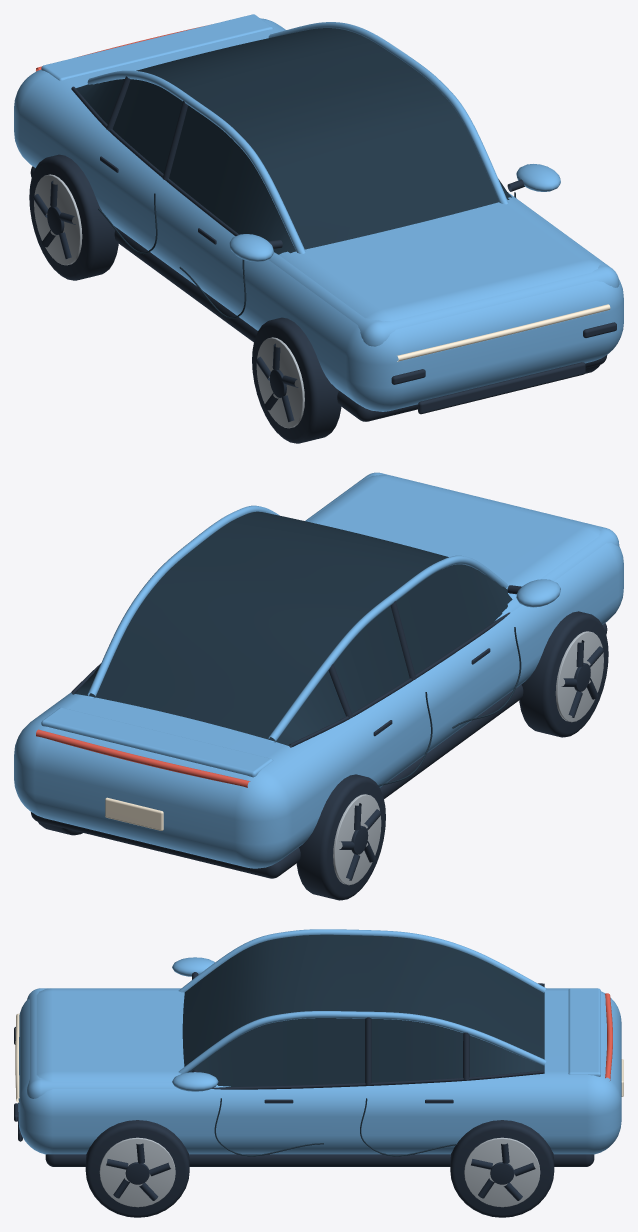
Rendered from tesla-model-y.glb.
3 renders of one model, top to bottom at view 1: azimuth 30°, elevation 25°; view 2: azimuth 150°, elevation 25°; view 3: azimuth 270°, elevation 25°, orthographic. The views are drawn at different scales.
Parts seen in each view (by area): view 1: Pearl paint, Midnight glass, Ink, Satin alloy, Porcelain; view 2: Pearl paint, Midnight glass, Ink, Satin alloy, Coral, Porcelain; view 3: Pearl paint, Midnight glass, Ink, Satin alloy, Coral, Porcelain.
Part boxes in pixels (x1,y1,x2,y2): Pearl paint: [14, 14, 623, 411]; Midnight glass: [76, 28, 515, 318]; Ink: [29, 76, 616, 443]; Satin alloy: [34, 174, 304, 428]; Porcelain: [397, 304, 610, 361]; Pearl paint: [14, 472, 623, 868]; Midnight glass: [73, 511, 521, 786]; Ink: [31, 585, 608, 900]; Satin alloy: [333, 631, 603, 885]; Coral: [36, 729, 250, 787]; Porcelain: [105, 797, 163, 830]; Pearl paint: [18, 929, 621, 1154]; Midnight glass: [182, 934, 544, 1156]; Ink: [14, 972, 594, 1217]; Satin alloy: [99, 1137, 540, 1207]; Coral: [605, 993, 612, 1080]; Porcelain: [15, 1013, 623, 1102].
Size of the model in its own units: 2.22 by 1.52 by 4.45.
